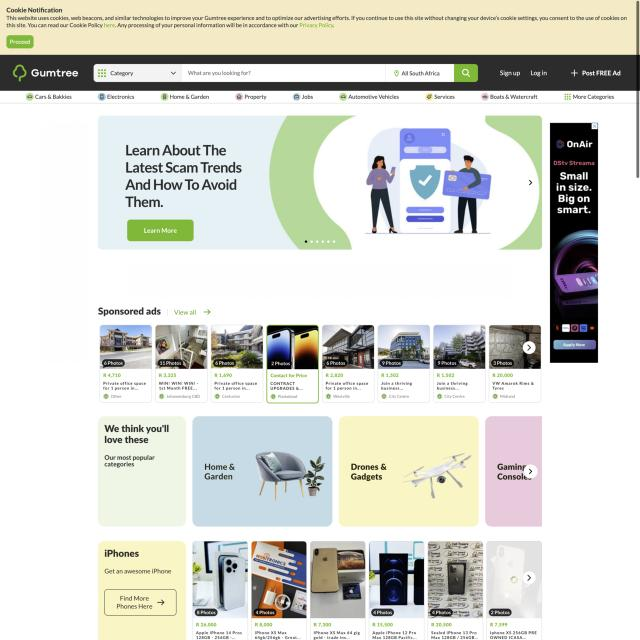input: (181, 64, 385, 82)
logo: (12, 63, 80, 84)
navigation: (0, 91, 636, 104)
